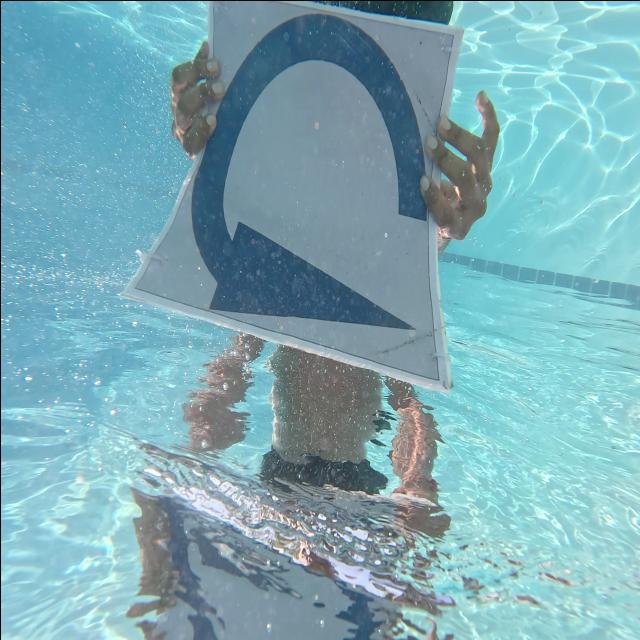blue_side: (132, 0, 462, 422)
